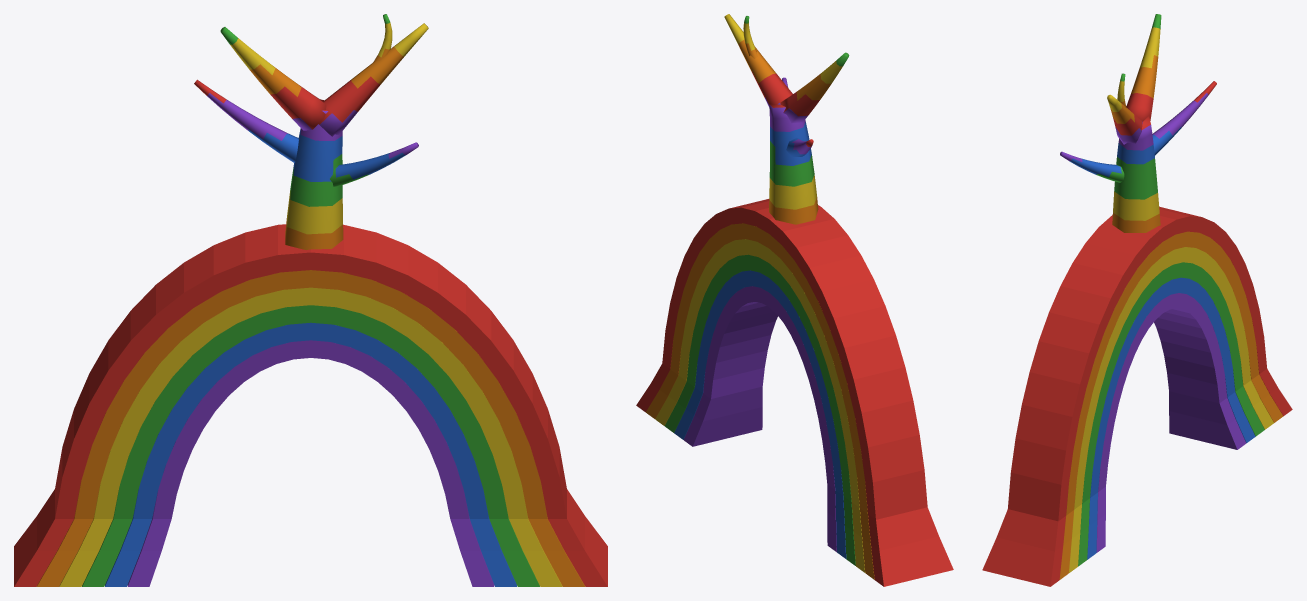
The model's file is Prismwood_Tree.glb.
3 views of the same model, side by side, from view 1: azimuth 30°, elevation 25°; view 2: azimuth 150°, elevation 25°; view 3: azimuth 270°, elevation 25° (orthographic). The views are drawn at different scales.
Visible parts, largest first — view 1: Prismwood_Tree; view 2: Prismwood_Tree; view 3: Prismwood_Tree.
Part boxes in pixels (x1,y1,x2,y2): Prismwood_Tree: [14, 14, 607, 586]; Prismwood_Tree: [636, 14, 953, 586]; Prismwood_Tree: [982, 14, 1292, 586].
Size of the model in its own units: 12.19 by 13.1 by 8.25.
